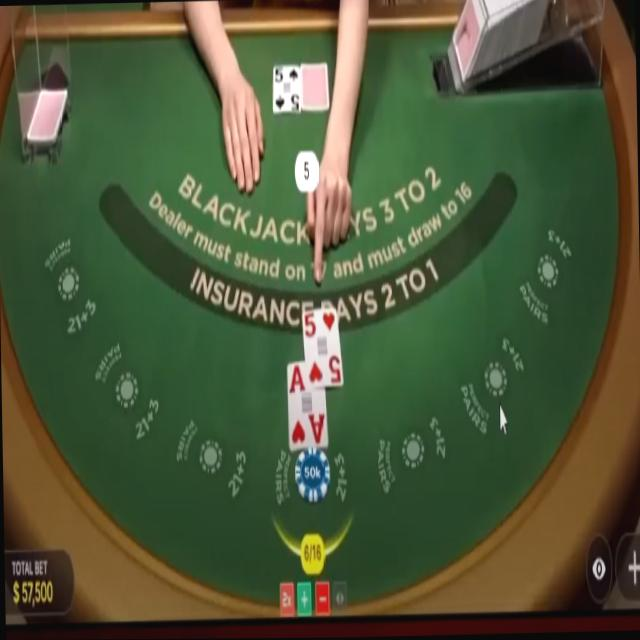Card-5: (302, 306, 343, 389), (273, 64, 300, 113)
Card-A: (287, 362, 327, 450)
